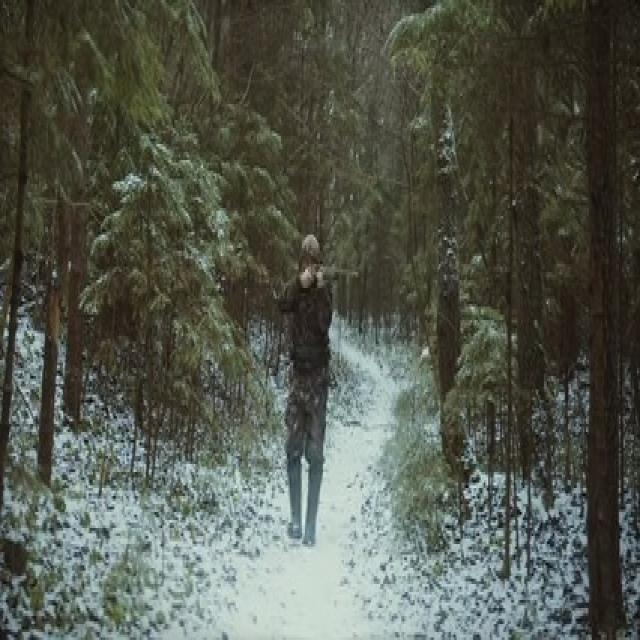Gun_Holder: (306, 263, 360, 291)
Person: (281, 233, 333, 551)
